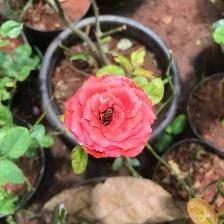rose: (63, 74, 158, 162)
